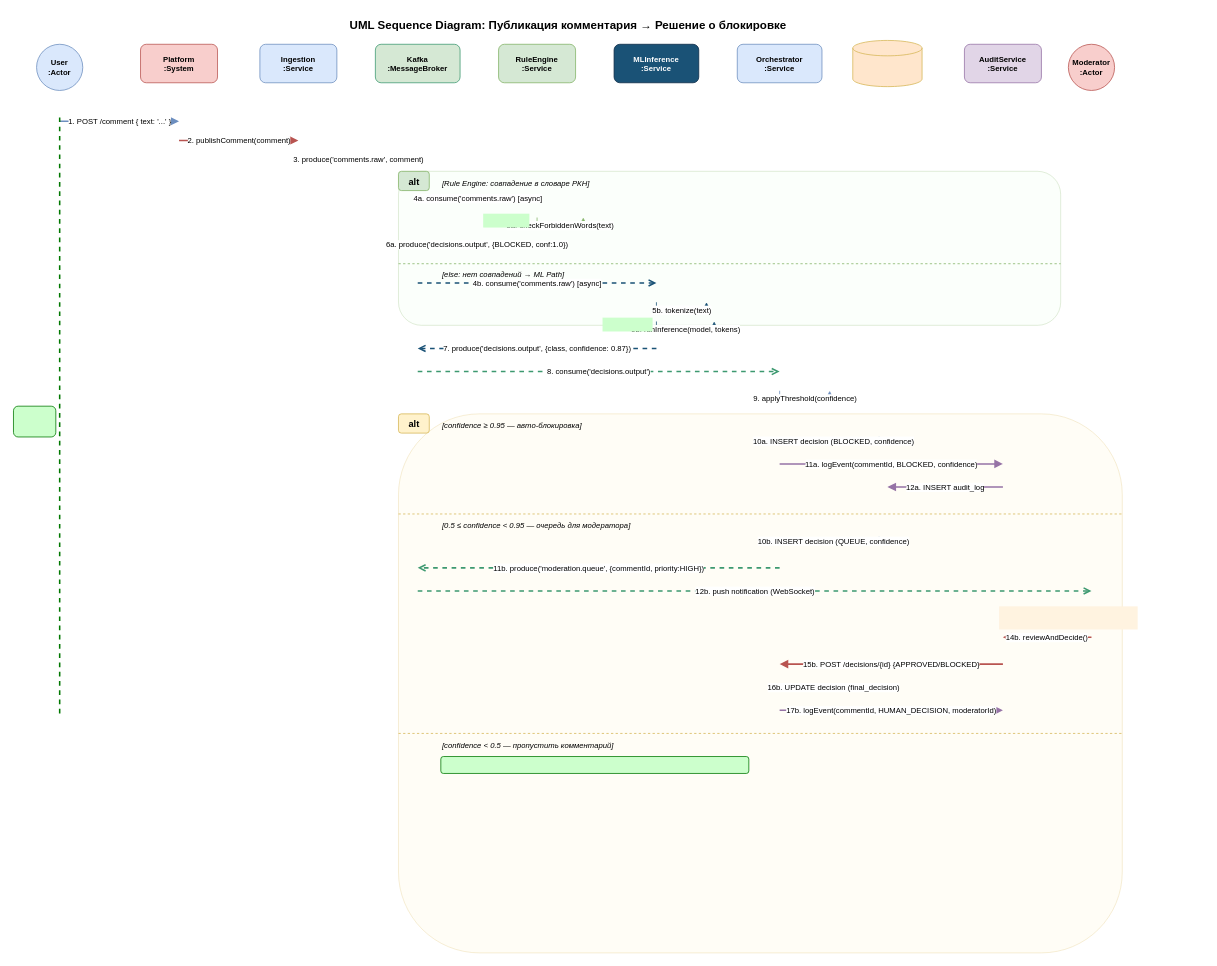
Image size: 1217x966. Some labels were removed from this diagram. The box of each missing label's shape, as (x1, y1, x2, y2) in pixels:
13b. showNotification: 'Новый комментарий на проверке': (999, 606, 1137, 629)
E2E SLA p95 < 2 сек: (13, 405, 56, 437)
PostgreSQL :Database: (852, 40, 922, 87)
нет действий — комментарий одобрен автоматически: (440, 756, 749, 773)
⚡ < 10 мс: (483, 213, 529, 227)
⚡ < 500 мс | GPU: (602, 317, 652, 331)
